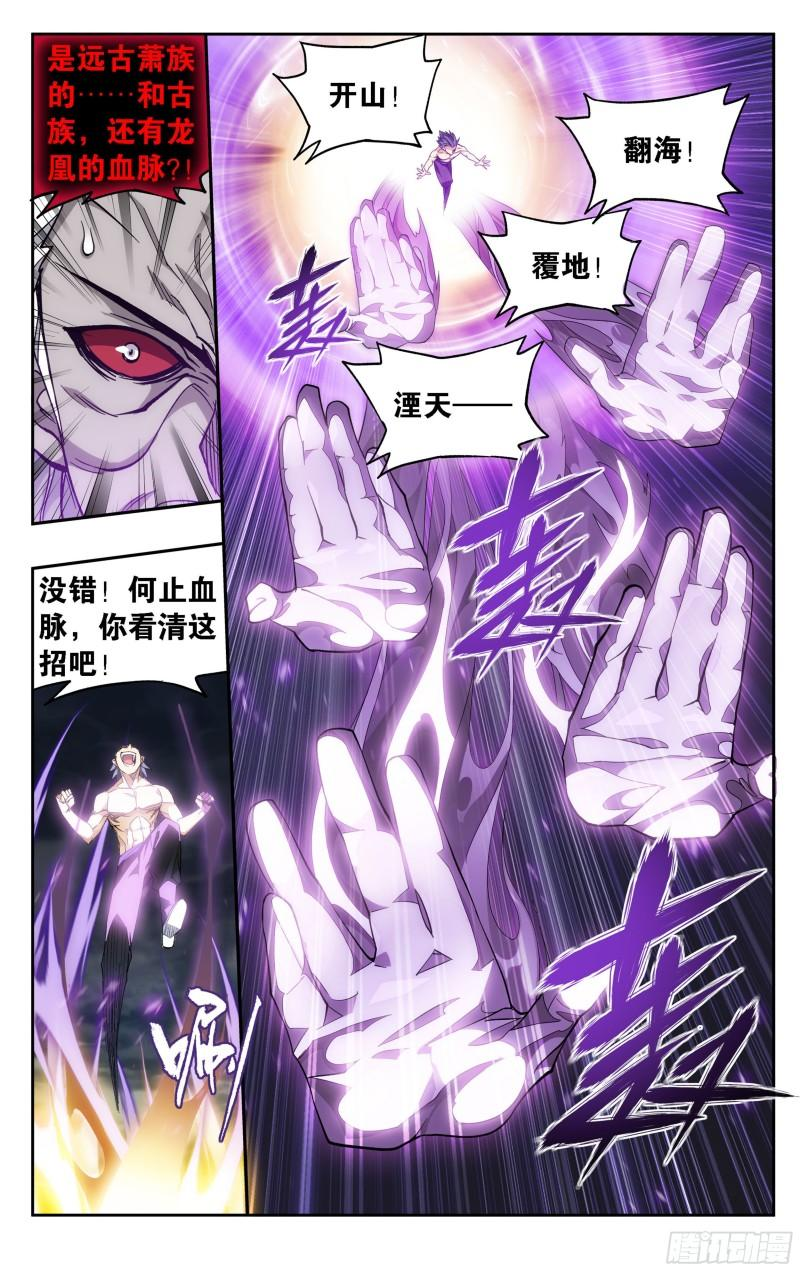boxBad: (30, 29, 204, 209)
boxBomb: (30, 541, 228, 700), (339, 334, 551, 473), (552, 83, 750, 224), (270, 32, 441, 167), (477, 203, 636, 323)
minBox: (204, 29, 771, 1216), (27, 541, 243, 1216), (30, 29, 216, 526)
